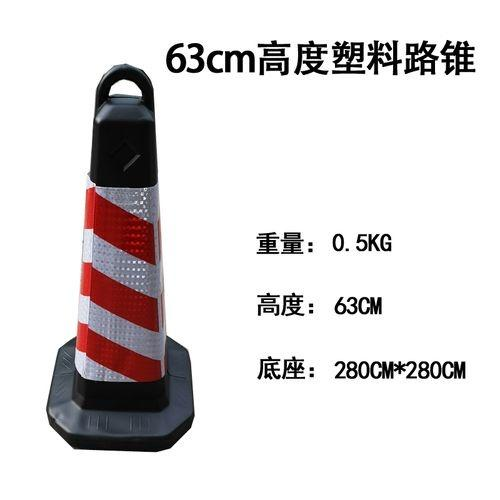cone_barrel: (41, 69, 203, 448)
